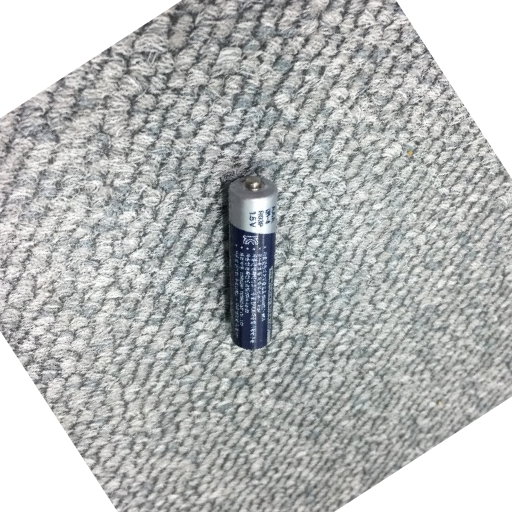Battery_0: (220, 167, 285, 356)
